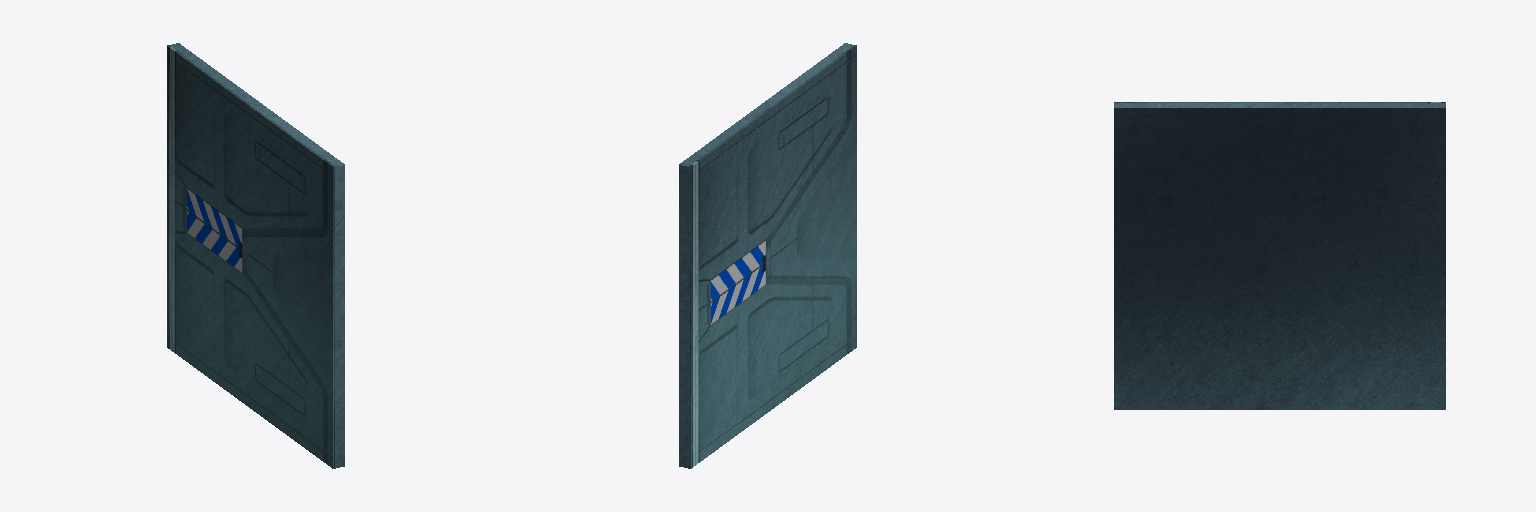
3 renders of one model, left to right at view 1: azimuth 30°, elevation 25°; view 2: azimuth 150°, elevation 25°; view 3: azimuth 270°, elevation 25°, orthographic.
Visible parts, largest first — view 1: door1; view 2: door1; view 3: door1.
Part boxes in pixels (bbox=[...]): door1: bbox=[167, 43, 344, 468]; door1: bbox=[679, 43, 856, 468]; door1: bbox=[1114, 102, 1445, 409].
Bounding box in the file's own units: 0.0817 × 2 × 2.
1 materials, 1 textured.